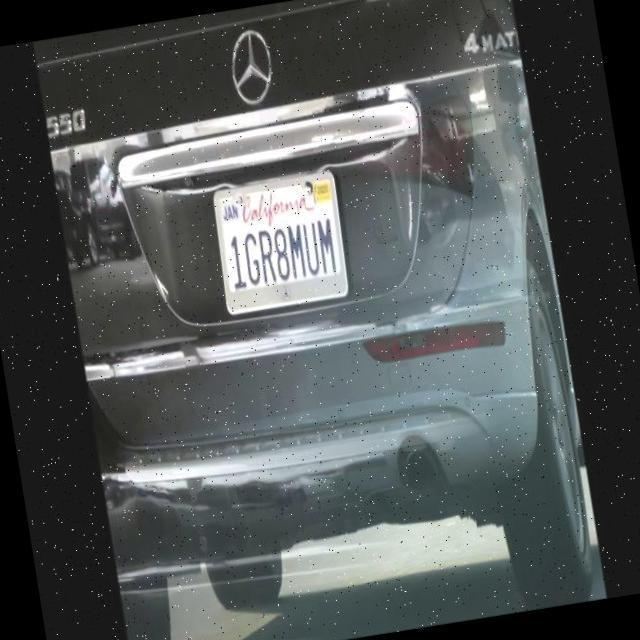License Plate: (200, 149, 360, 337)
